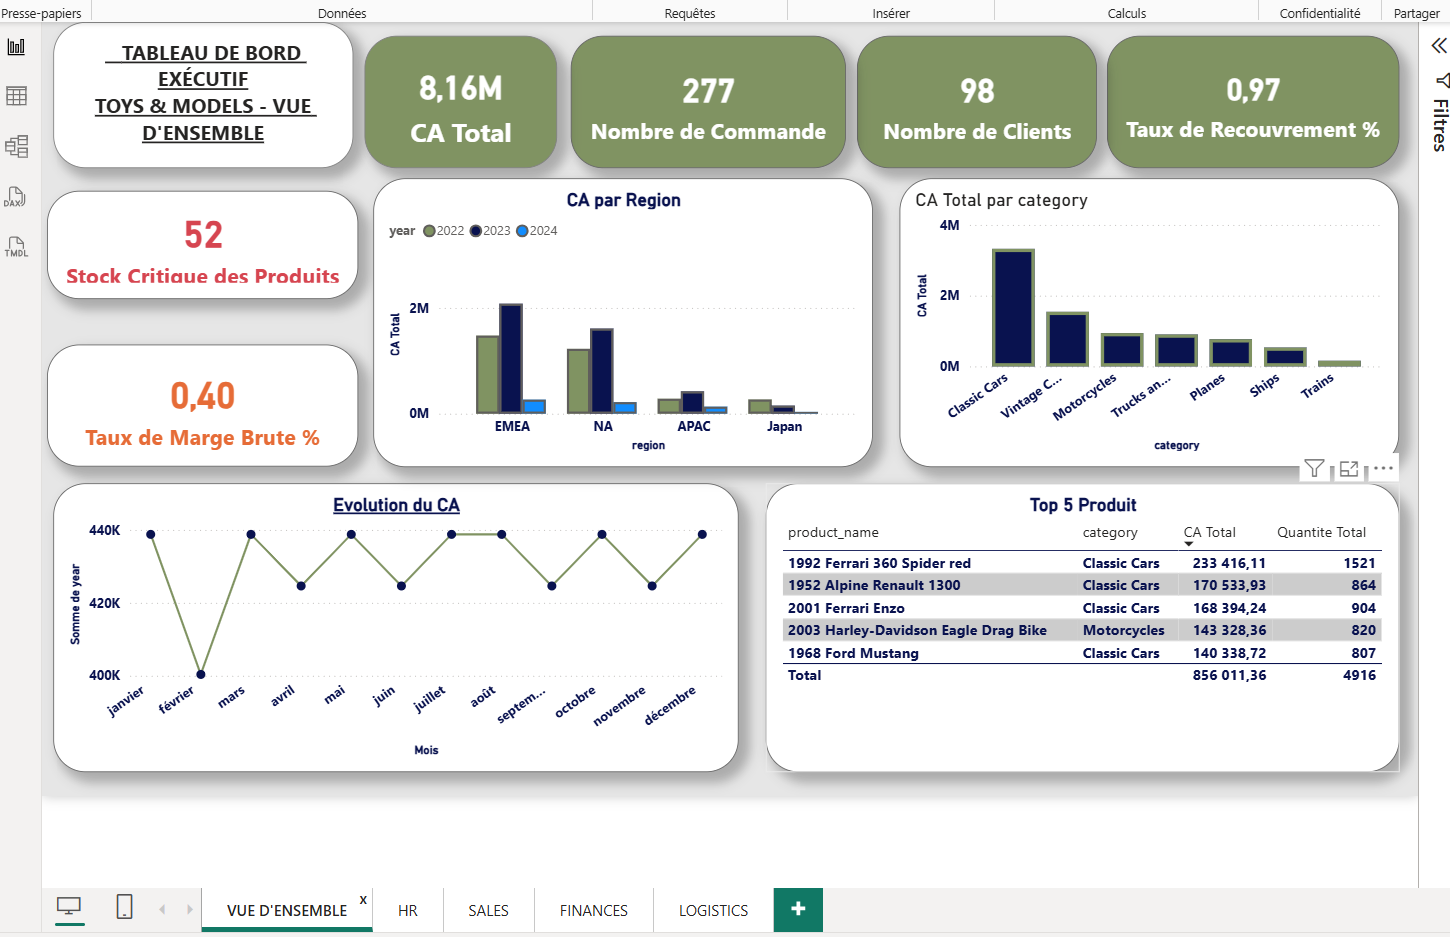

The dashboard page shown, as its layout file describes it:
{"tool":"powerbi","page":{"name":"VUE D'ENSEMBLE","canvas":[1280,720],"ordinal":0},"visuals":[{"type":"textbox","box":[10.5,0,279.1,136],"z":0},{"type":"card","fields":{"Values":["_MEASURES.Gross Margin %"]},"box":[4.7,300,289.5,114],"z":1000},{"type":"card","fields":{"Values":["_MEASURES.Payment Recovery Rate %"]},"box":[990.7,12.8,272.1,123.3],"z":2000},{"type":"card","fields":{"Values":["_MEASURES.Total Customers"]},"box":[758.1,12.8,223.3,123.3],"z":3000},{"type":"card","fields":{"Values":["_MEASURES.Total Orders"]},"box":[491.9,12.8,255.8,123.3],"z":4000},{"type":"card","fields":{"Values":["_MEASURES.Total Revenue"]},"box":[300,12.8,179.1,123.3],"z":5000},{"type":"card","fields":{"Values":["_MEASURES.Critical Stock Products"]},"box":[4.7,157,289.5,101.2],"z":6000},{"type":"lineChart","title":"Evolution du CA","fields":{"Category":["toys_and_models dim_dates.order_date.Variation.Hiérarchie de dates.Mois"],"Y":["Sum(toys_and_models dim_dates.year)"]},"box":[10.5,429.1,637.2,268.6],"z":7000},{"type":"clusteredColumnChart","title":"CA par Region ","fields":{"Category":["toys_and_models dim_offices.region"],"Y":["_MEASURES.Total Revenue"],"Series":["toys_and_models dim_dates.year"]},"box":[308.1,145.3,465.1,268.6],"z":8000},{"type":"clusteredColumnChart","fields":{"Category":["toys_and_models dim_products.category"],"Y":["_MEASURES.Total Revenue"]},"box":[797.7,145.3,465.1,268.6],"z":9000},{"type":"tableEx","title":"Top 5 Produit","fields":{"Values":["toys_and_models dim_products.product_name","toys_and_models dim_products.category","_MEASURES.Total Revenue","_MEASURES.Total Quantity"]},"box":[673.3,429.1,589.5,268.6],"z":10000}]}

Visuals, with their boxes on the page's 1280x720 design canvas (x1, y1, x2, y2). These are canvas units, not pixel positions in the 1450x937 screenshot, which may show the page scaled, cropped or inside an application window:
textbox: crop(10, 0, 290, 136)
card - _MEASURES.Gross Margin %: crop(5, 300, 294, 414)
card - _MEASURES.Payment Recovery Rate %: crop(991, 13, 1263, 136)
card - _MEASURES.Total Customers: crop(758, 13, 981, 136)
card - _MEASURES.Total Orders: crop(492, 13, 748, 136)
card - _MEASURES.Total Revenue: crop(300, 13, 479, 136)
card - _MEASURES.Critical Stock Products: crop(5, 157, 294, 258)
"Evolution du CA" lineChart: crop(10, 429, 648, 698)
"CA par Region " clusteredColumnChart: crop(308, 145, 773, 414)
clusteredColumnChart - toys_and_models dim_products.category x _MEASURES.Total Revenue: crop(798, 145, 1263, 414)
"Top 5 Produit" tableEx: crop(673, 429, 1263, 698)
